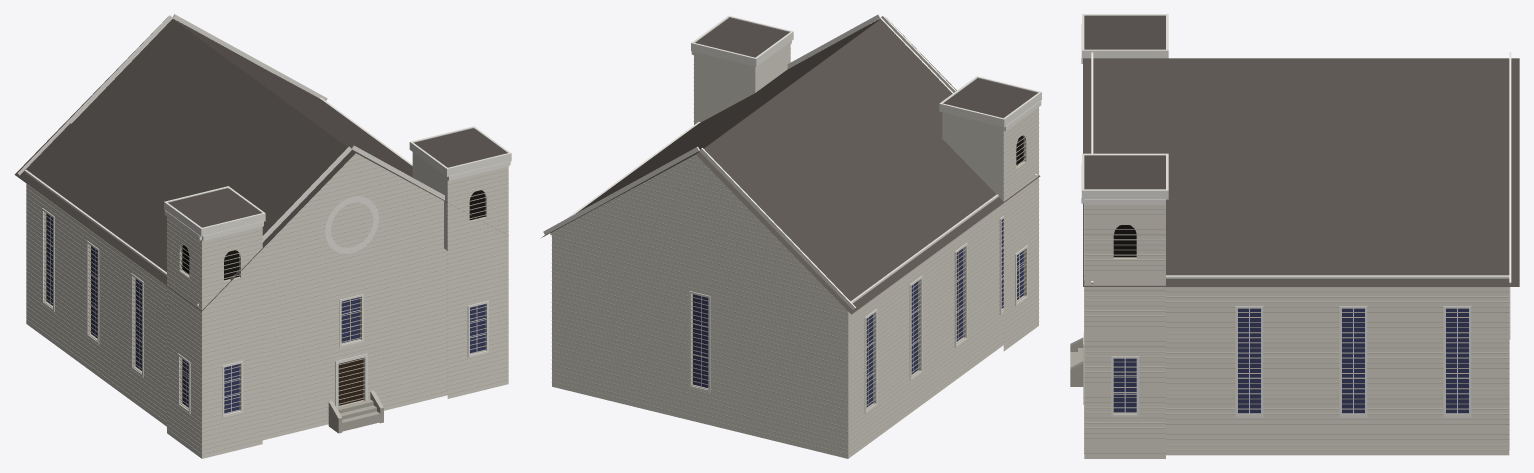
File: ch-agudas-achim-synagogue-1913.glb
The picture shows the model from 3 angles, left to right: view 1: azimuth 30°, elevation 25°; view 2: azimuth 150°, elevation 25°; view 3: azimuth 270°, elevation 25°; orthographic projection. The views are drawn at different scales.
Visible parts, largest first — view 1: ch_brick, ch_roof, ch_brick2, ch_trim, ch_stain, ch_roof2, ch_conc, ch_door, ch_shadow; view 2: ch_brick, ch_roof, ch_brick2, ch_trim, ch_roof2, ch_stain; view 3: ch_roof, ch_brick, ch_brick2, ch_trim, ch_stain, ch_roof2, ch_shadow, ch_conc.
Boxes of the visible parts, x1,y1,x2,y2 form: ch_brick: (26, 152, 508, 458); ch_roof: (14, 16, 508, 311); ch_brick2: (26, 79, 508, 454); ch_trim: (17, 14, 511, 417); ch_stain: (46, 213, 485, 413); ch_roof2: (168, 128, 507, 227); ch_conc: (328, 390, 383, 433); ch_door: (338, 358, 363, 405); ch_shadow: (182, 190, 485, 280); ch_brick: (552, 42, 1038, 458); ch_roof: (541, 18, 1040, 314); ch_brick2: (551, 33, 1039, 454); ch_trim: (543, 14, 1041, 413); ch_roof2: (695, 17, 1037, 117); ch_stain: (693, 219, 1023, 407); ch_roof: (1083, 58, 1519, 286); ch_brick: (1084, 205, 1509, 458); ch_brick2: (1084, 204, 1509, 453); ch_trim: (1081, 14, 1511, 417); ch_stain: (1113, 308, 1468, 413); ch_roof2: (1084, 16, 1165, 189); ch_shadow: (1113, 225, 1136, 257); ch_conc: (1070, 337, 1083, 386).
Bounding box in the file's own units: 16.4 × 13.86 × 17.59.
